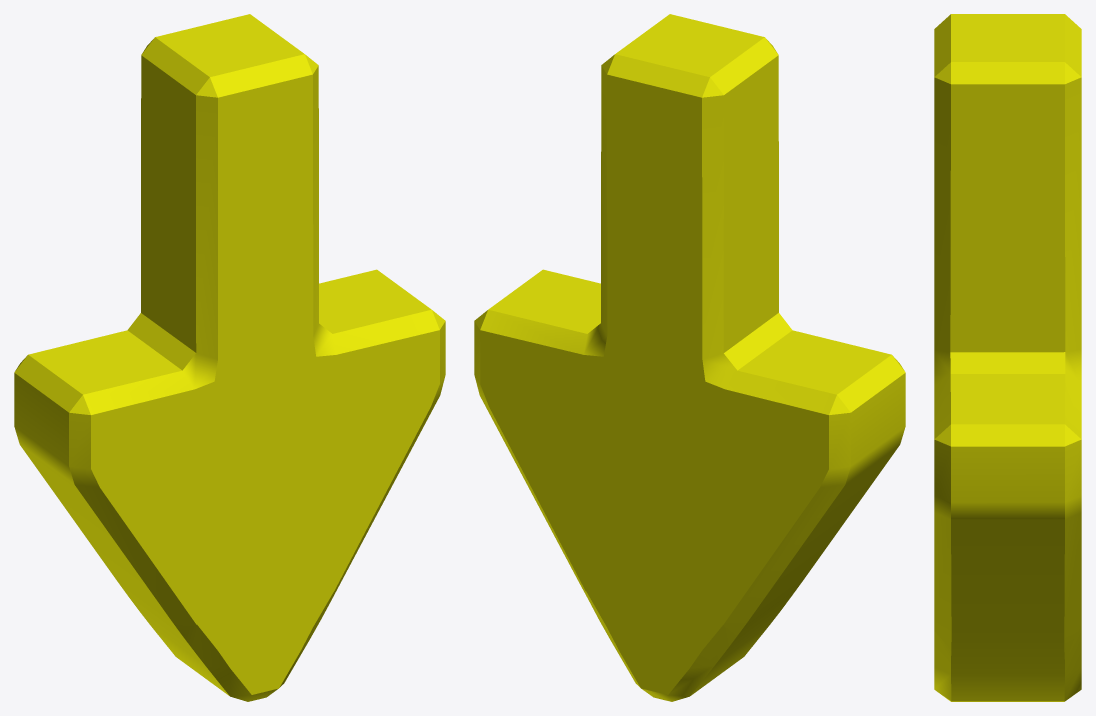
Rendered from Arrow.fbx.
3 views of the same model, side by side, from view 1: azimuth 30°, elevation 25°; view 2: azimuth 150°, elevation 25°; view 3: azimuth 270°, elevation 25° (orthographic). The views are drawn at different scales.
Visible parts, largest first — view 1: pCube1; view 2: pCube1; view 3: pCube1.
Part boxes in pixels (<box>): pCube1: <box>14,14,445,701</box>; pCube1: <box>474,14,905,701</box>; pCube1: <box>934,14,1081,701</box>.
Size of the model in its own units: 3.07 by 4.94 by 1.
